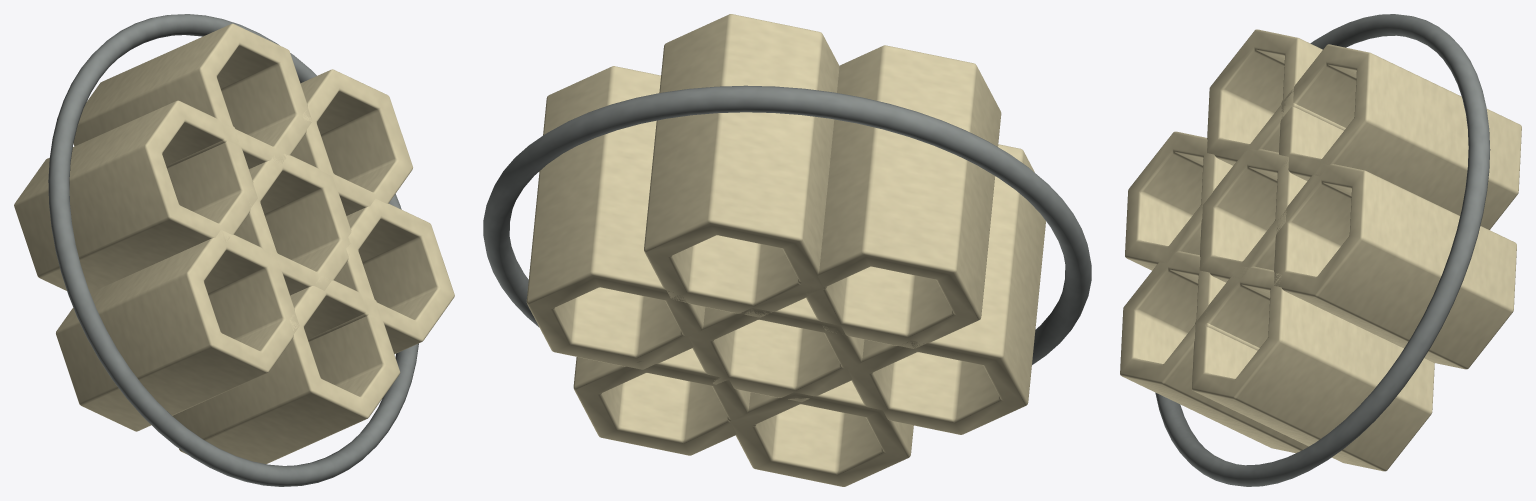
The picture shows the model from 3 angles, left to right: view 1: azimuth 30°, elevation 25°; view 2: azimuth 150°, elevation 25°; view 3: azimuth 270°, elevation 25°; orthographic projection. The views are drawn at different scales.
Visible parts, largest first — view 1: True open ceramic hexagonal cell; view 2: True open ceramic hexagonal cell; view 3: True open ceramic hexagonal cell.
Part boxes in pixels (x1,y1,x2,y2): True open ceramic hexagonal cell: (14,14,454,486); True open ceramic hexagonal cell: (483,14,1091,486); True open ceramic hexagonal cell: (1120,14,1521,486).
Bounding box in the file's own units: 1.08 × 1.04 × 0.9127.
1 material, 1 textured.
